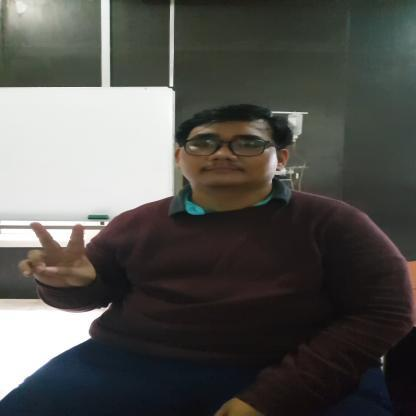V: (18, 220, 100, 288)
